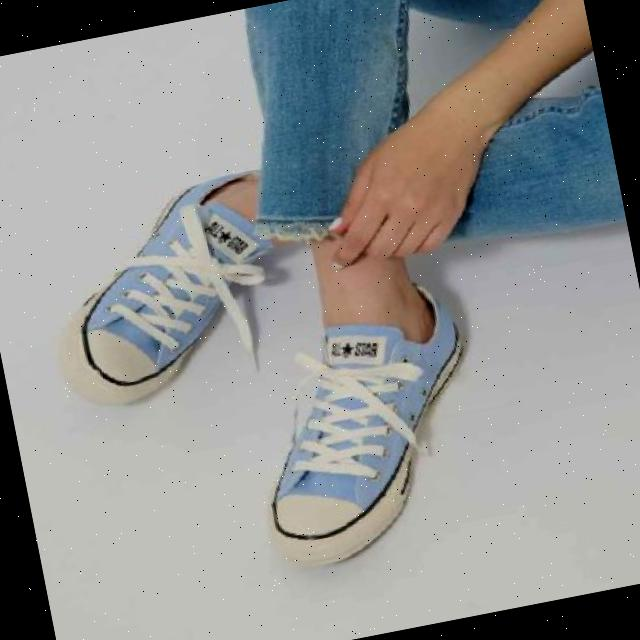no-boots: (235, 299, 521, 580), (46, 162, 297, 430)
